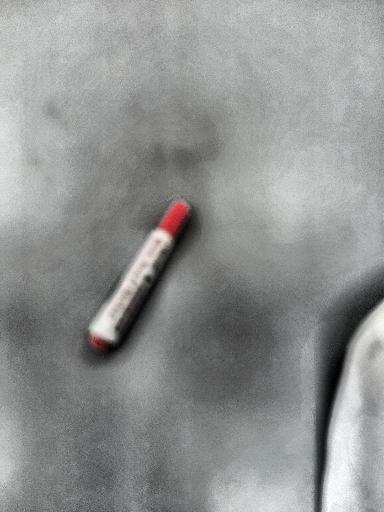marcador rojo: (89, 202, 190, 351)
